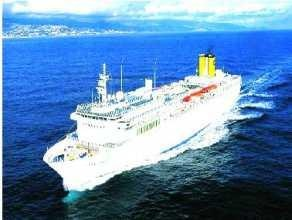youlun: (41, 50, 243, 191)
